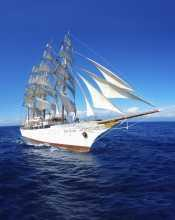fanchuan: (11, 36, 159, 151)
